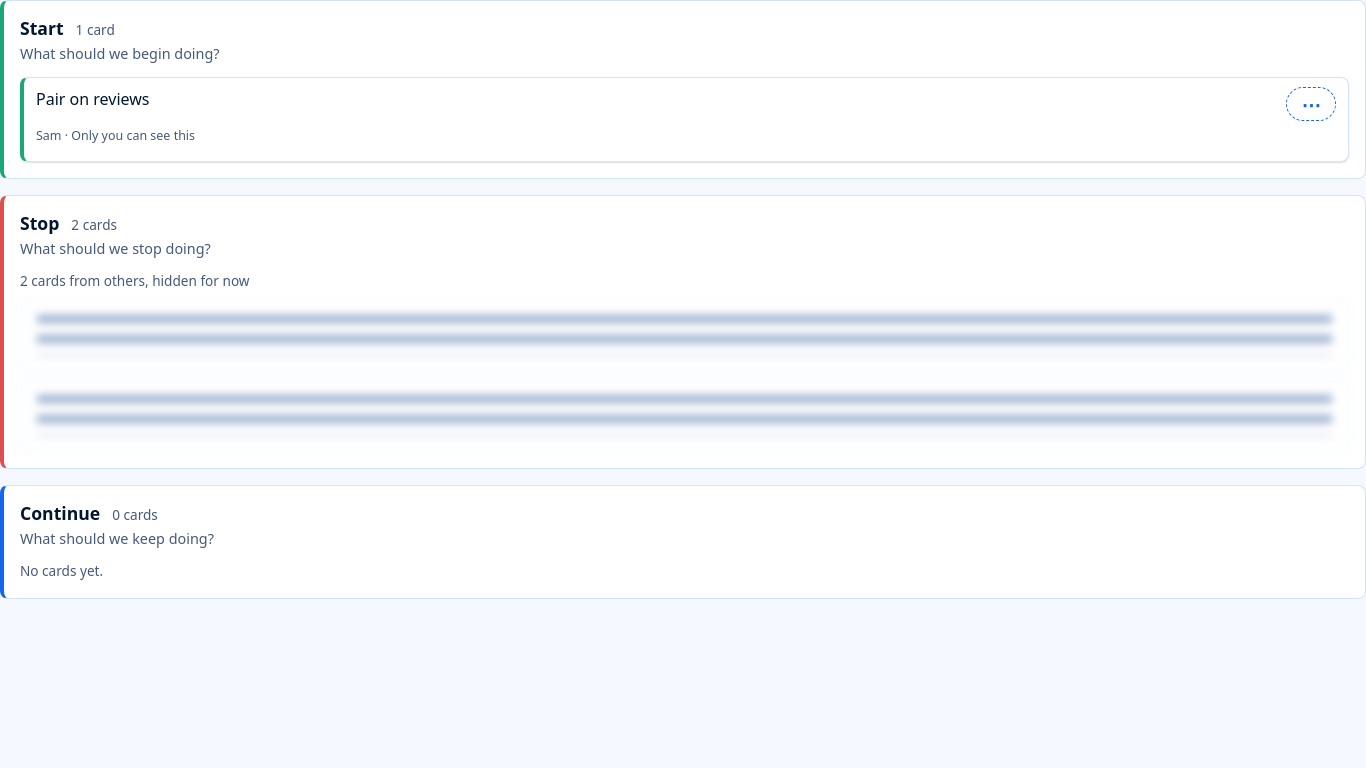
BoardListView › offers nothing but copying until the viewer has joined the board
Click the button named "Card options".
click(1311, 104)  # box [1286,87,1336,121]
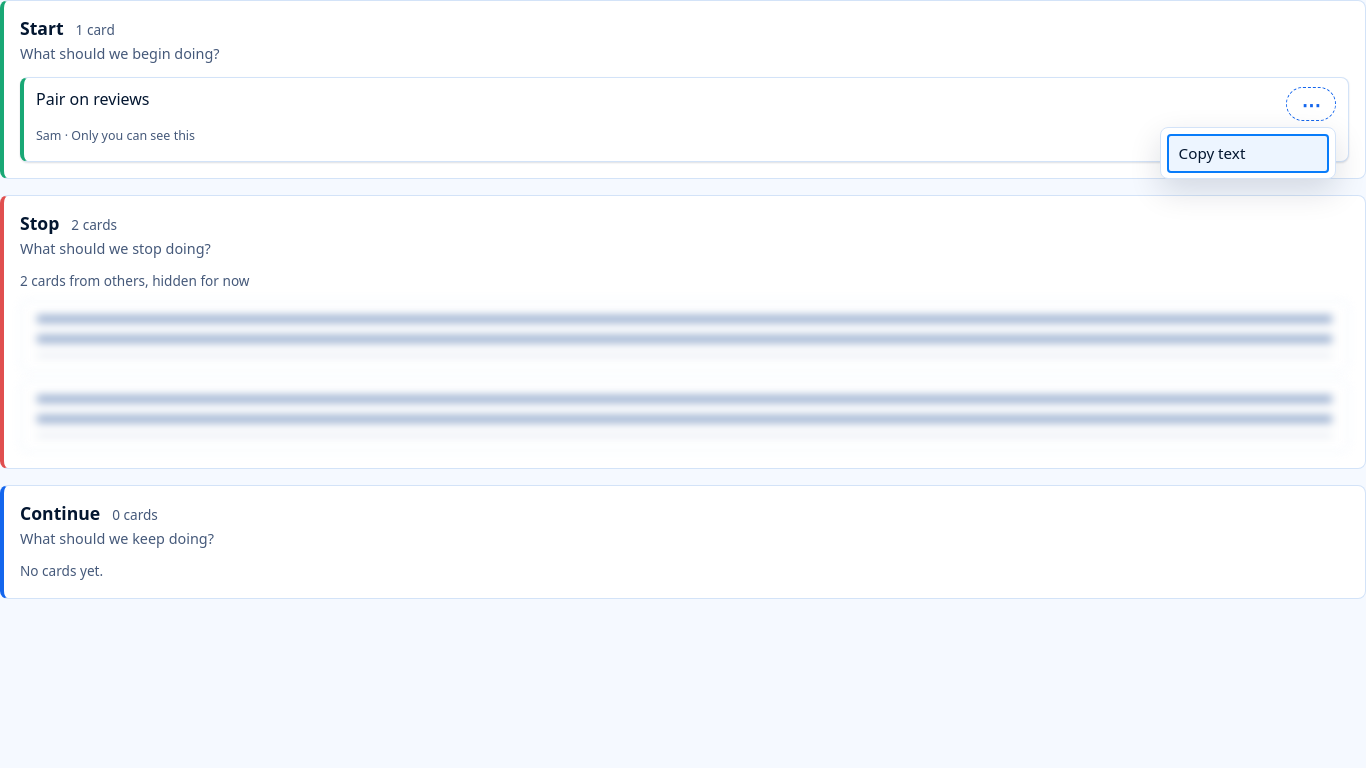
Expected: the text "Pair on reviews" is shown, [36,88,150,110]
Now the menu items read "Copy text", in this order, box [1167,134,1329,172]
